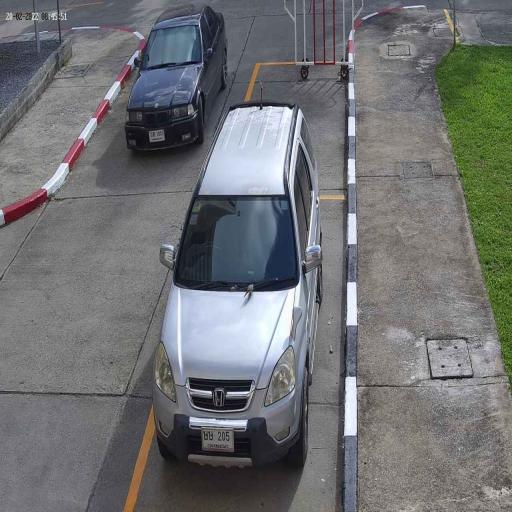car: (150, 106, 322, 472), (124, 4, 228, 154)
